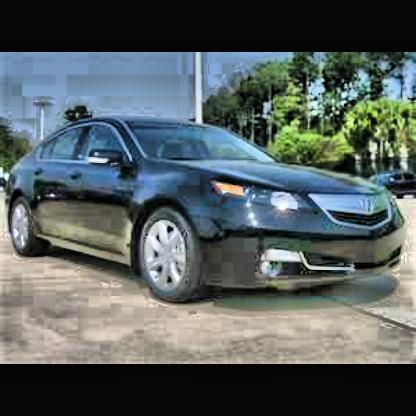Acura TL Sedan 2012: (5, 118, 411, 306)
